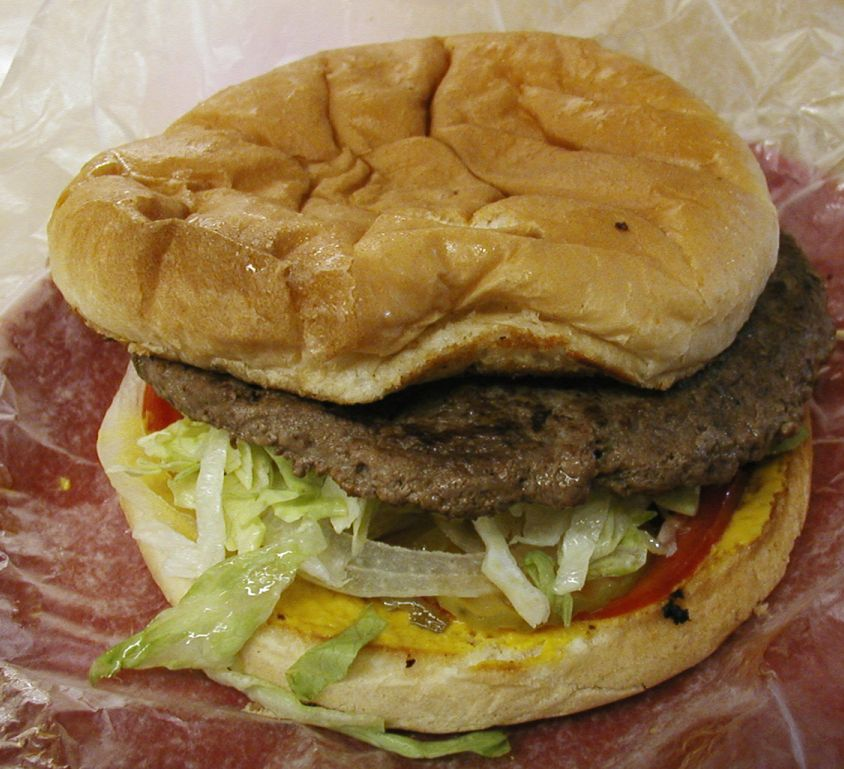hamburger_buns: (25, 14, 786, 402)
